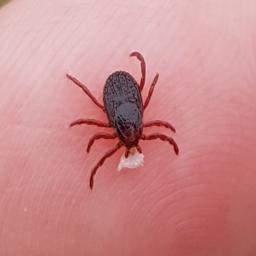Rhipicephalus sanguineus: (66, 51, 181, 191)
